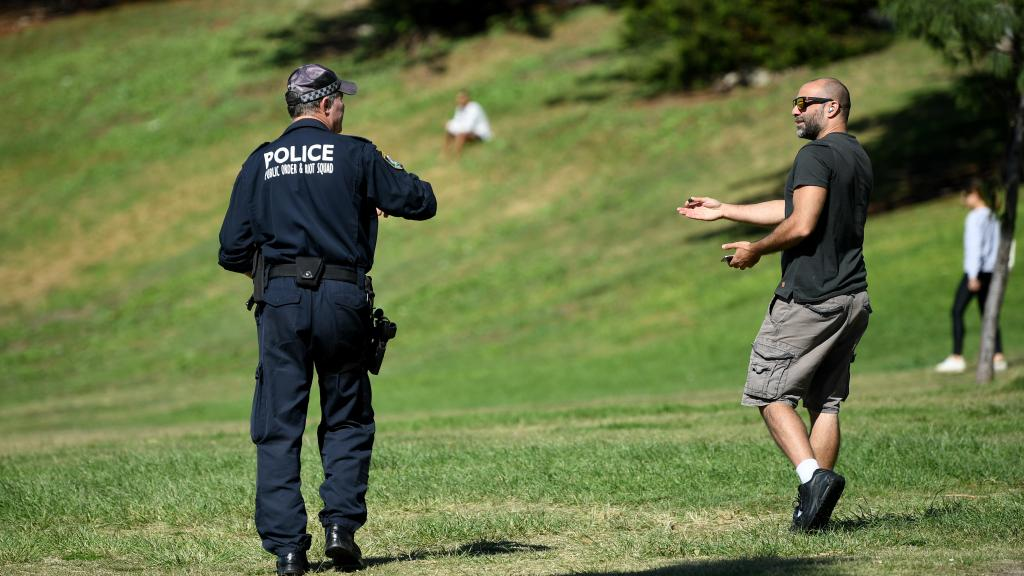Person: (218, 65, 437, 576), (677, 76, 872, 529)
